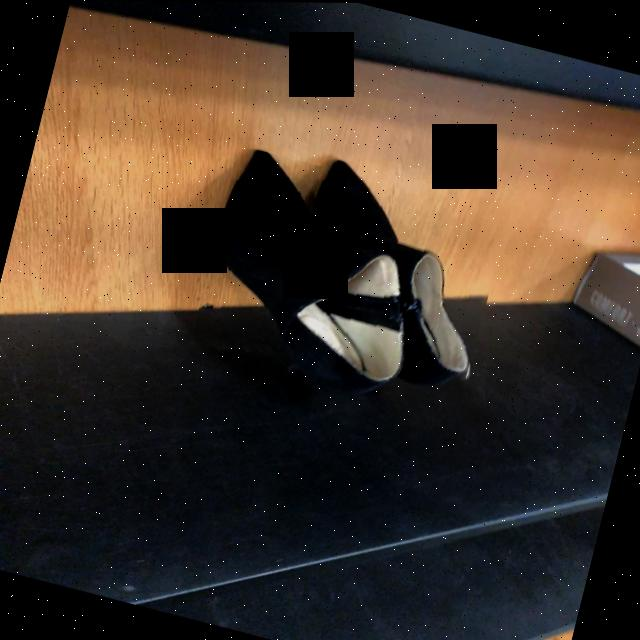shoe: (218, 149, 408, 395), (282, 160, 469, 394)
